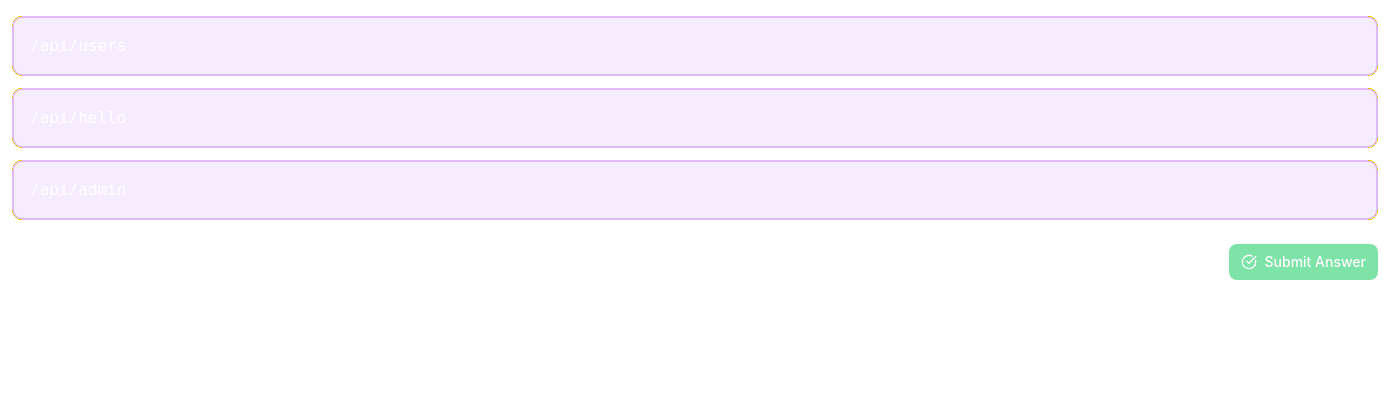
PickEndpoint › feedback › shows error feedback after wrong answer
The width and height of the screenshot is (1390, 407).
Click the button "/api/admin".
click(78, 190)  # box [12, 160, 1378, 220]
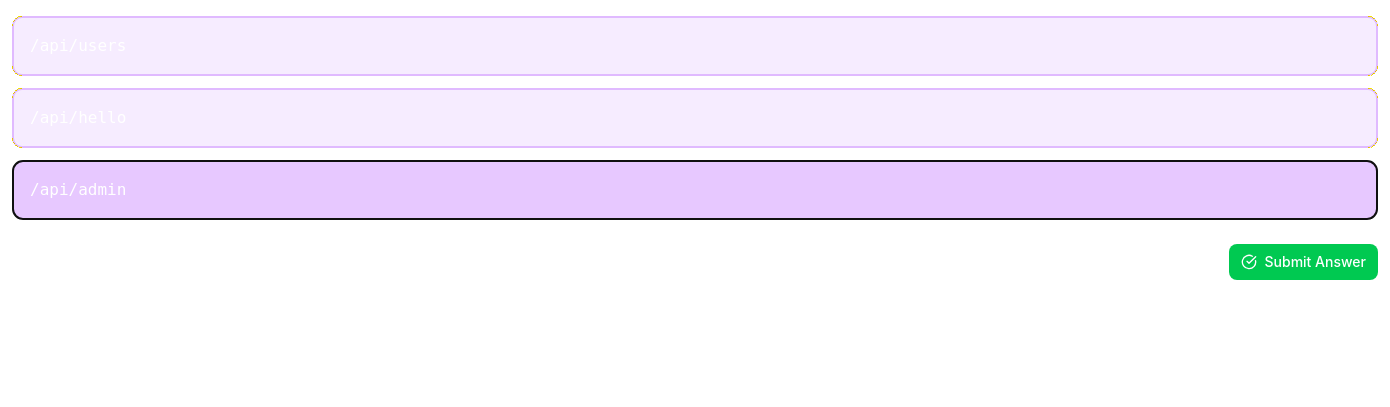
Click the button "Submit Answer".
click(1303, 262)  # box [1228, 244, 1378, 280]
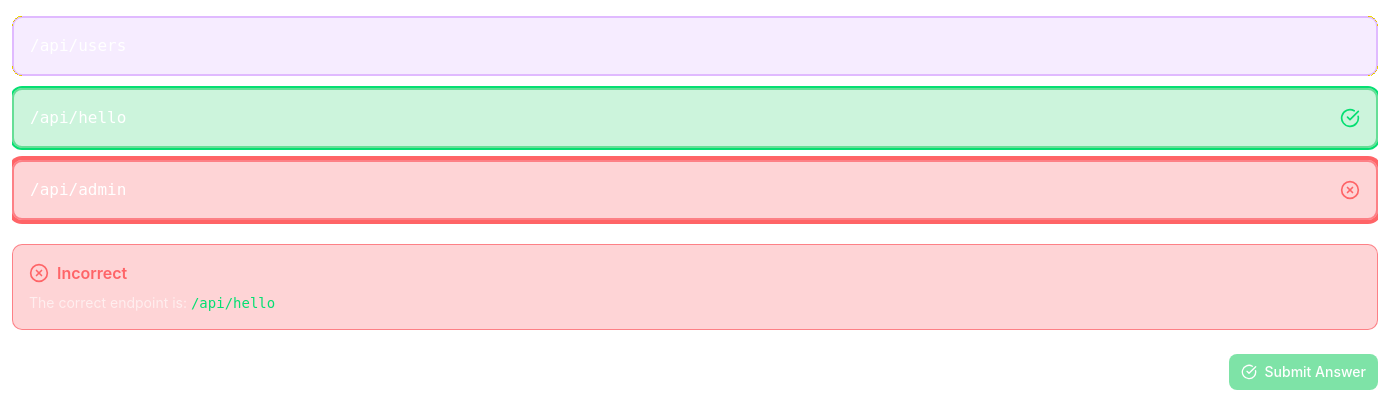
Check: the text "Incorrect" is shown, box [57, 261, 127, 285]
